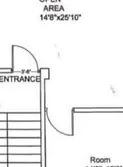door: (45, 104, 78, 139), (9, 42, 40, 76)
